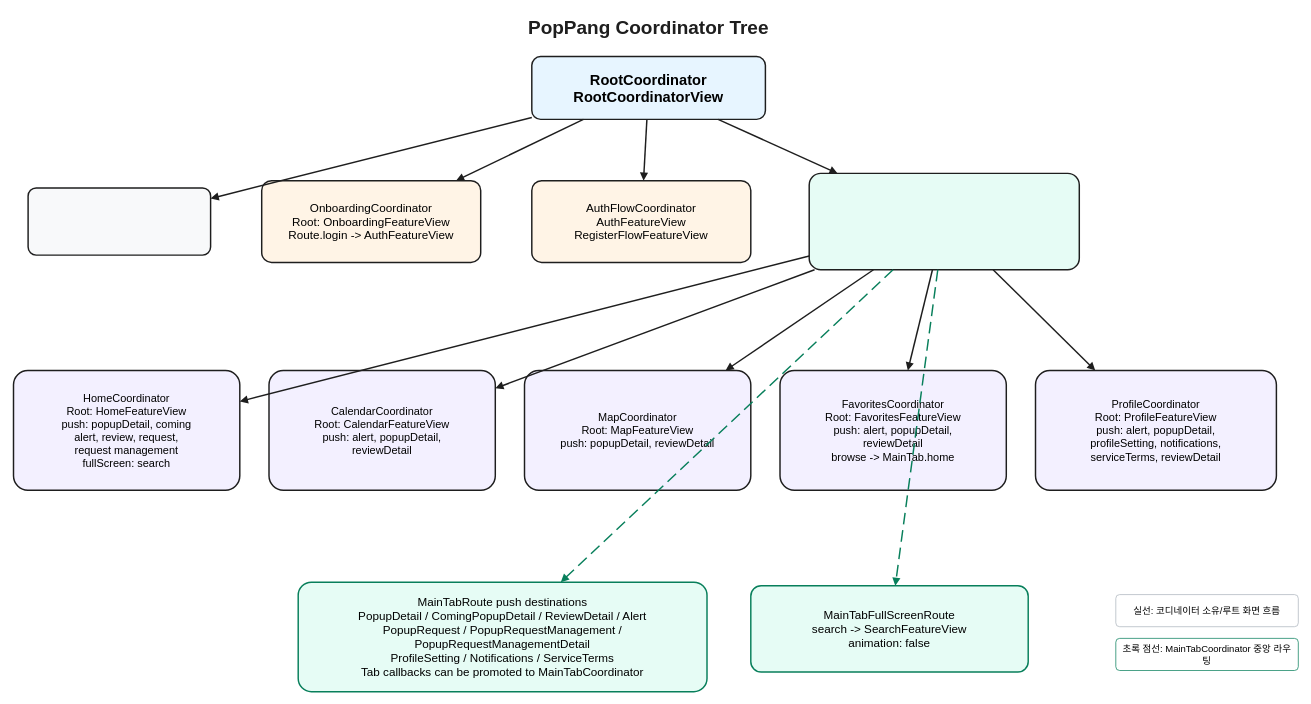
The diagram is 1311 pixels wide and 704 high, and some of its shapes have lost their labels. Here are the shapes that lost their labels. From the top down, the centre of each, then its label:
At [119,221]: "destination: launch LaunchScene".
At [944,221]: "MainTabCoordinator NavigationStack + TabView selectedTab / paths / fullScreen".
